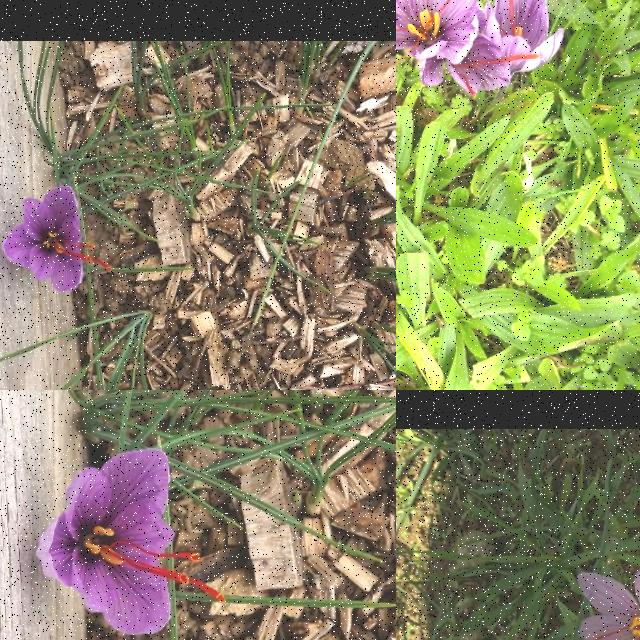flower: (36, 450, 228, 632), (0, 186, 114, 294), (577, 571, 640, 640)
overlap: (396, 0, 563, 98)
